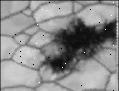good_void: (37, 10, 117, 75)
